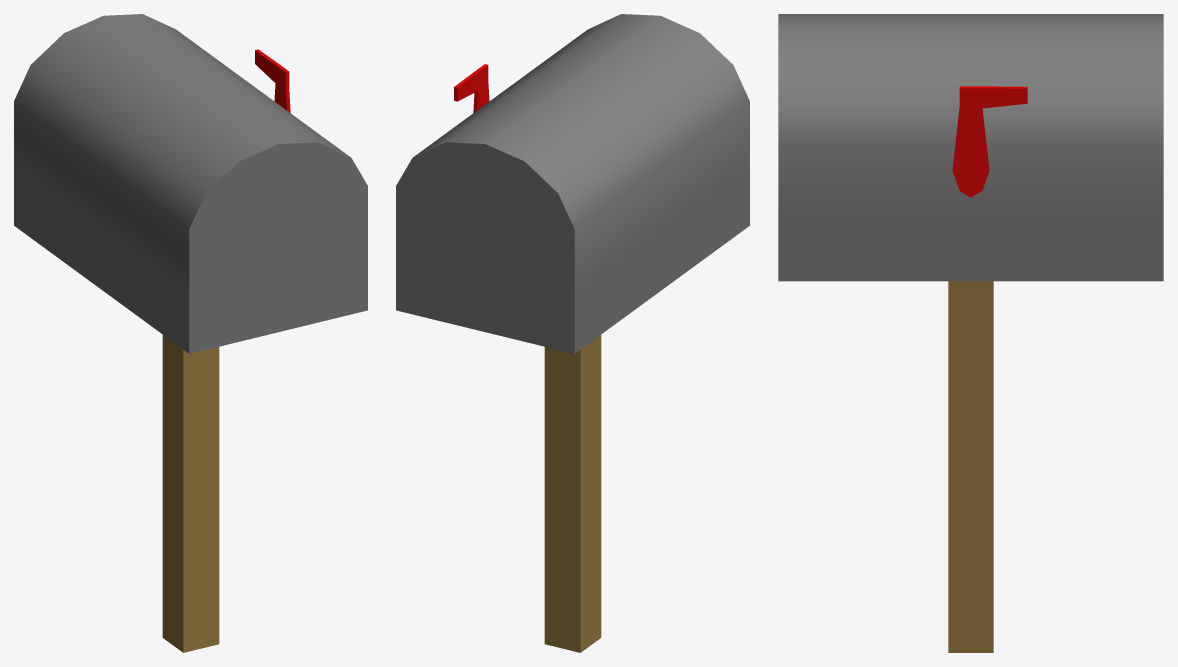
File: Mailbox.fbx
3 views of the same model, side by side, from view 1: azimuth 30°, elevation 25°; view 2: azimuth 150°, elevation 25°; view 3: azimuth 270°, elevation 25° (orthographic). The views are drawn at different scales.
Parts seen in each view (by area): view 1: pCube2, pCube1, pCube3; view 2: pCube2, pCube1, pCube3; view 3: pCube2, pCube1, pCube3.
Part boxes in pixels (box(x1,y1,x2,y2)): pCube2: box(14, 14, 367, 353); pCube1: box(162, 335, 219, 652); pCube3: box(255, 49, 290, 112); pCube2: box(396, 14, 749, 353); pCube1: box(544, 335, 601, 652); pCube3: box(454, 64, 489, 112); pCube2: box(778, 14, 1163, 281); pCube1: box(948, 281, 993, 652); pCube3: box(952, 86, 1027, 197).
Size of the model in its own units: 1.02 by 3 by 1.7.
